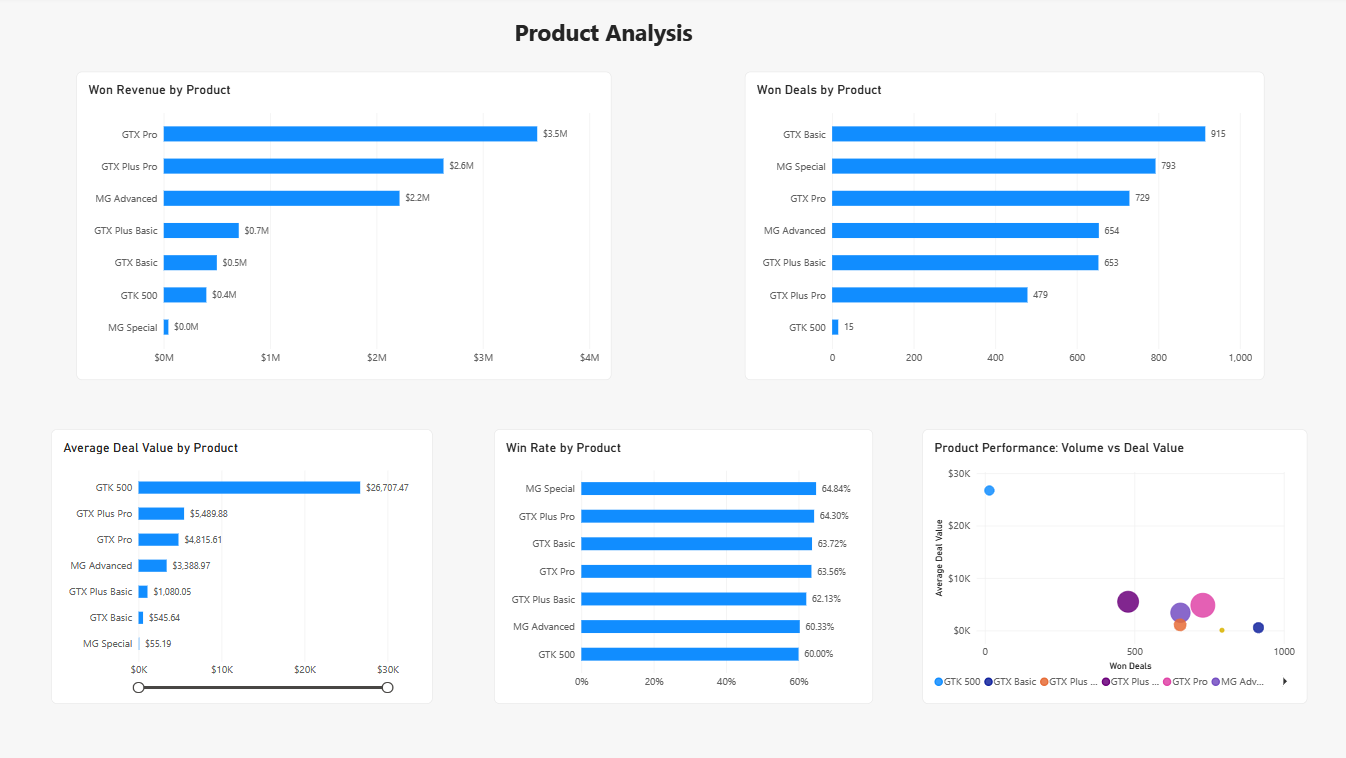

This screenshot's page, from the dashboard's own definition file:
{"tool":"powerbi","page":{"name":"Product Analysis","canvas":[1920,1080],"ordinal":3},"visuals":[{"type":"clusteredBarChart","title":"Won Deals by Product","fields":{"Category":["DimProduct.product"],"Y":["FactSalesPipeline.Won Deals"]},"box":[1051.9,106.2,729.9,433.2],"z":0},{"type":"clusteredBarChart","title":"Average Deal Value by Product","fields":{"Category":["DimProduct.product"],"Y":["FactSalesPipeline.Average Deal Value"]},"box":[77.5,608.5,536,386],"z":1000},{"type":"scatterChart","title":"Product Performance: Volume vs Deal Value","fields":{"Series":["DimProduct.product"],"Size":["FactSalesPipeline.Won Revenue"],"X":["FactSalesPipeline.Won Deals"],"Y":["FactSalesPipeline.Average Deal Value"]},"box":[1301.4,608.5,541.1,386],"z":2000},{"type":"clusteredBarChart","title":"Win Rate by Product","fields":{"Category":["DimProduct.product"],"Y":["FactSalesPipeline.Win Rate"]},"box":[699.6,608.5,532.7,386],"z":3000},{"type":"clusteredBarChart","title":"Won Revenue by Product","fields":{"Category":["DimProduct.product"],"Y":["FactSalesPipeline.Won Revenue"]},"box":[112.9,106.2,751.8,433.2],"z":3001},{"type":"textbox","box":[728.2,28.7,273.1,50.6],"z":3002}]}

Visuals, with their boxes in screenshot pixels (x1, y1, x2, y2), scaled from the page's 1920x1080 canvas onto the 1346x758 screenshot:
"Won Deals by Product" clusteredBarChart: crop(737, 75, 1249, 379)
"Average Deal Value by Product" clusteredBarChart: crop(54, 427, 430, 698)
"Product Performance: Volume vs Deal Value" scatterChart: crop(912, 427, 1292, 698)
"Win Rate by Product" clusteredBarChart: crop(490, 427, 864, 698)
"Won Revenue by Product" clusteredBarChart: crop(79, 75, 606, 379)
textbox: crop(510, 20, 702, 56)
